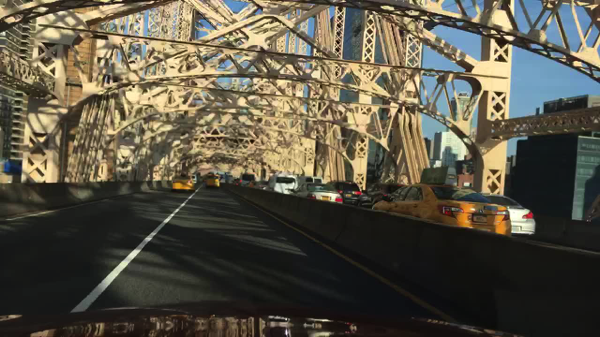car: (374, 166, 513, 238), (478, 193, 537, 239), (357, 181, 411, 209), (287, 183, 345, 206), (321, 178, 363, 205), (262, 174, 299, 196), (170, 174, 197, 193), (236, 171, 256, 187), (295, 175, 324, 185), (205, 174, 221, 190), (252, 180, 270, 190), (224, 176, 240, 186), (245, 179, 259, 189), (220, 173, 233, 183), (214, 174, 226, 184), (189, 174, 198, 184), (208, 171, 217, 177), (198, 176, 204, 183)
